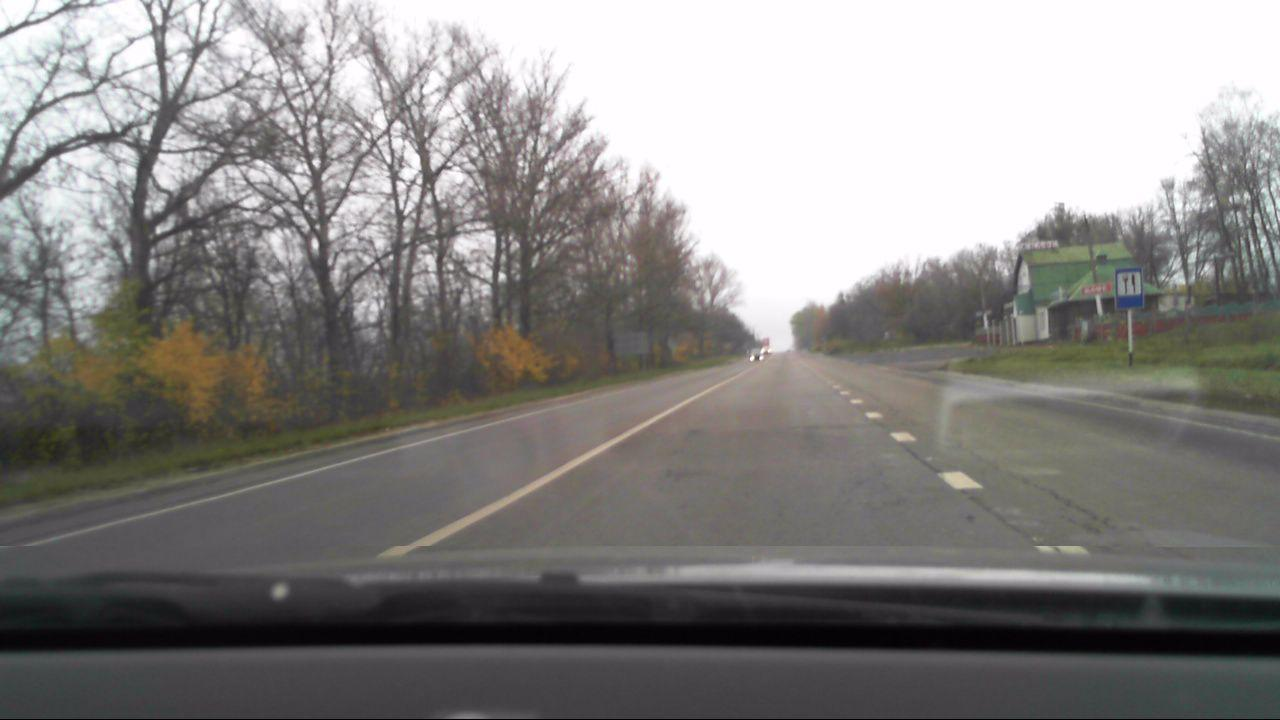7_7: (1114, 267, 1145, 309)
